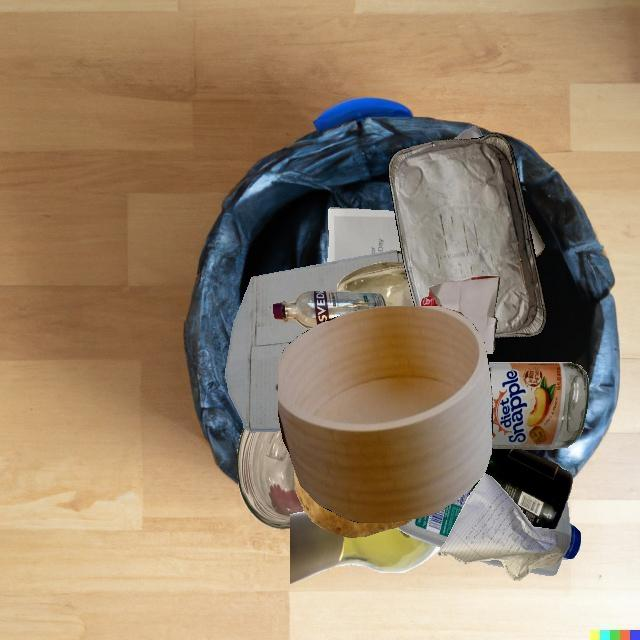biowaste: (294, 468, 414, 537)
cardboard: (225, 250, 403, 432)
combustible waste: (278, 306, 492, 523)
glass: (290, 511, 441, 584), (488, 362, 589, 450), (469, 448, 573, 530), (237, 428, 305, 529), (273, 291, 386, 329), (337, 262, 414, 306)
metal: (388, 133, 547, 339)
paper: (438, 473, 571, 581), (421, 275, 500, 354), (327, 207, 401, 262), (526, 210, 545, 258), (454, 126, 483, 139)
plastic: (469, 490, 565, 560), (396, 490, 470, 547)
